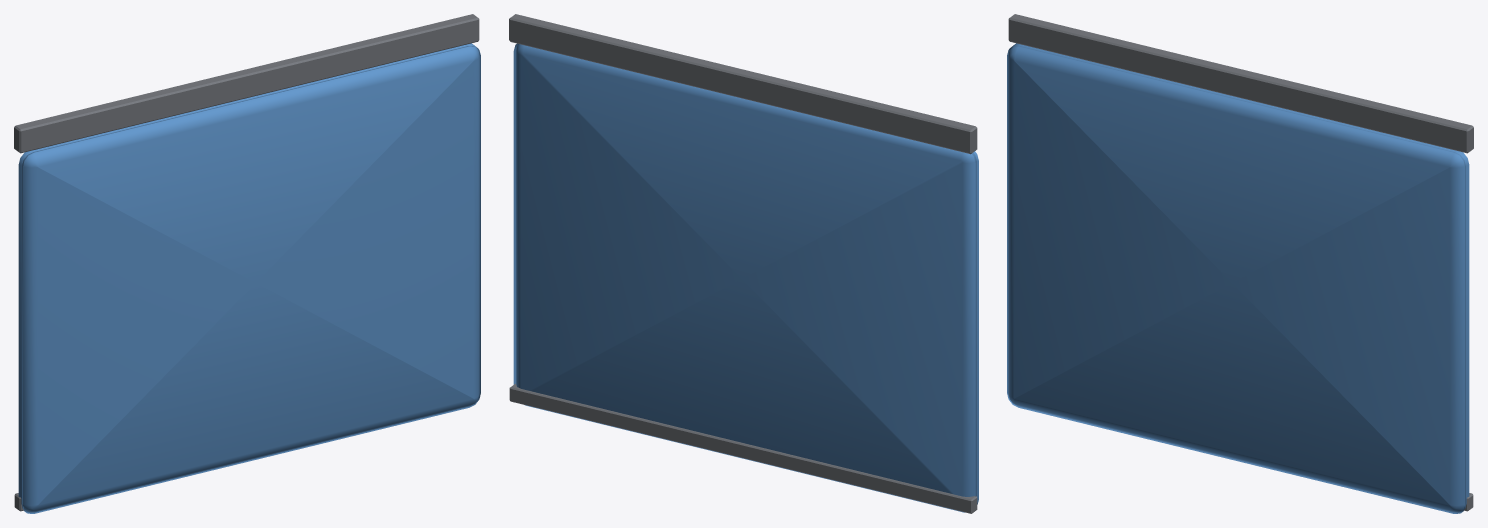
Rendered from wall_pad.glb.
3 views of the same model, side by side, from view 1: azimuth 30°, elevation 25°; view 2: azimuth 150°, elevation 25°; view 3: azimuth 330°, elevation 25° (orthographic).
Visible parts, largest first — view 1: wall-padding-module; view 2: wall-padding-module; view 3: wall-padding-module.
Boxes of the visible parts, x1,y1,x2,y2 form: wall-padding-module: [14, 14, 480, 513]; wall-padding-module: [509, 14, 978, 513]; wall-padding-module: [1007, 14, 1473, 513].
Bounding box in the file's own units: 2 × 1.6 × 0.0934.
